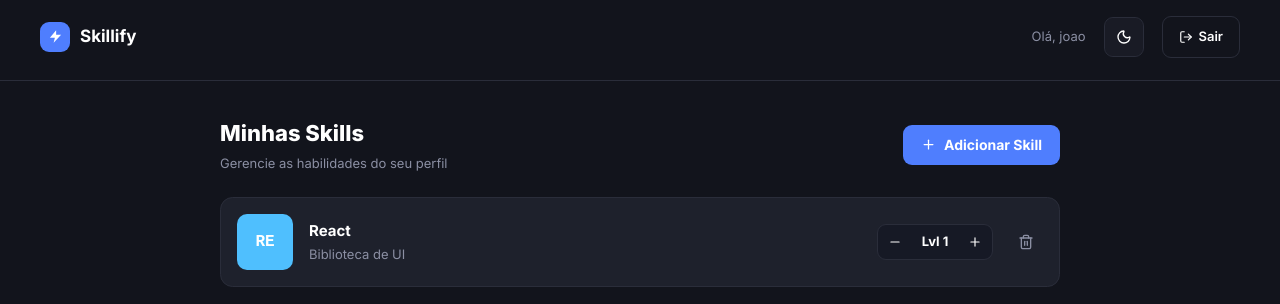
Scenario: HomePage › increments and decrements a skill's level, clamped between 1 and 5
Expected: the text "React" is shown, [309, 221, 351, 240]
Expected: the text "Lvl 1" is shown, [922, 233, 948, 249]
Click the button named "Diminuir level" at (895,242), box [882, 229, 908, 255]
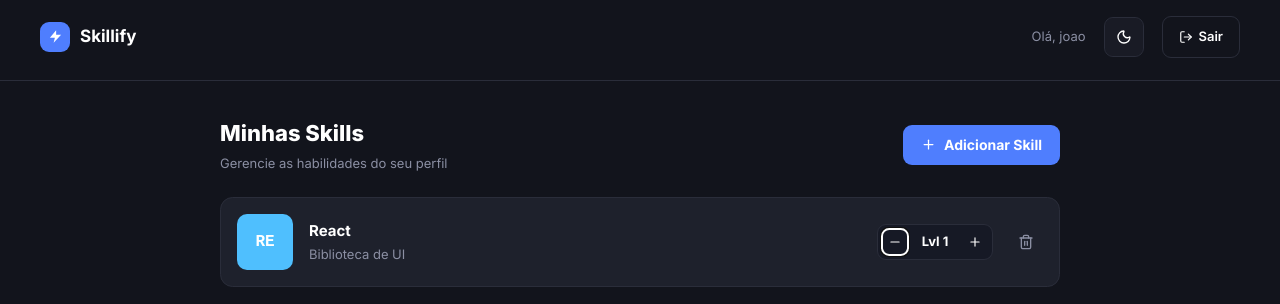
Expected: the text "Lvl 1" is shown, [922, 233, 948, 249]
Click the button named "Aumentar level" at (975,242), box [962, 229, 988, 255]
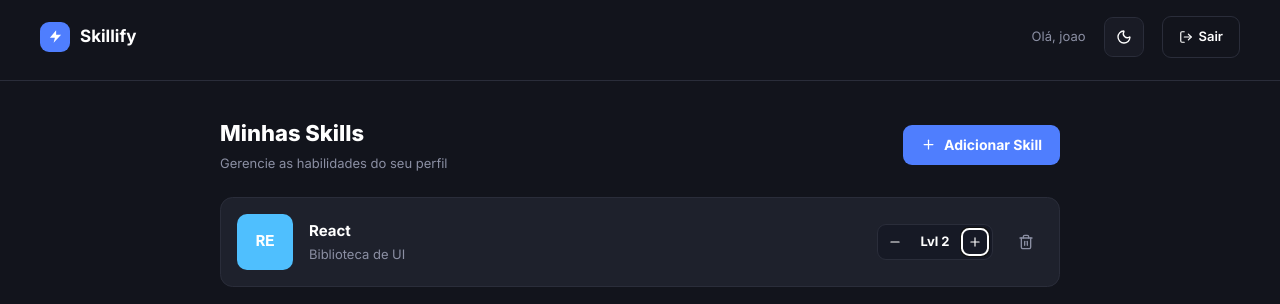
Expected: the text "Lvl 2" is shown, [920, 233, 950, 249]
